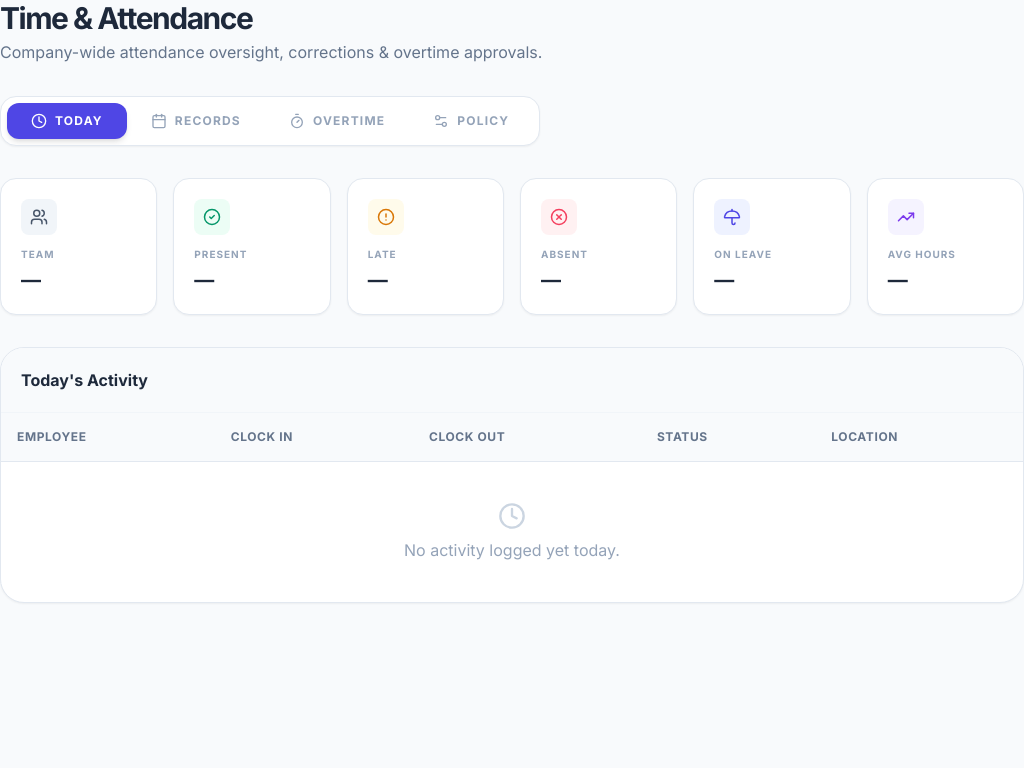
Scenario: AttendanceManagement (admin) › Records tab › disables Save on the create form until an employee id is entered
Click the button "Records".
click(196, 121)  # box [127,103,265,139]
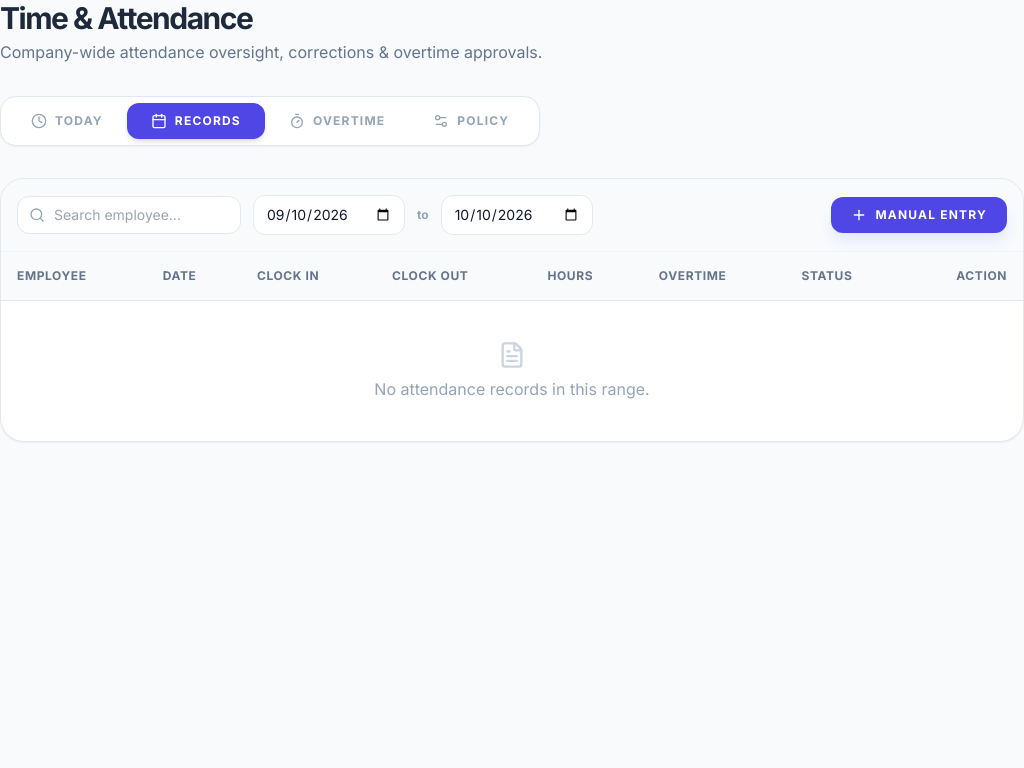
Click the button "Manual Entry".
click(919, 215)  # box [831,197,1007,233]
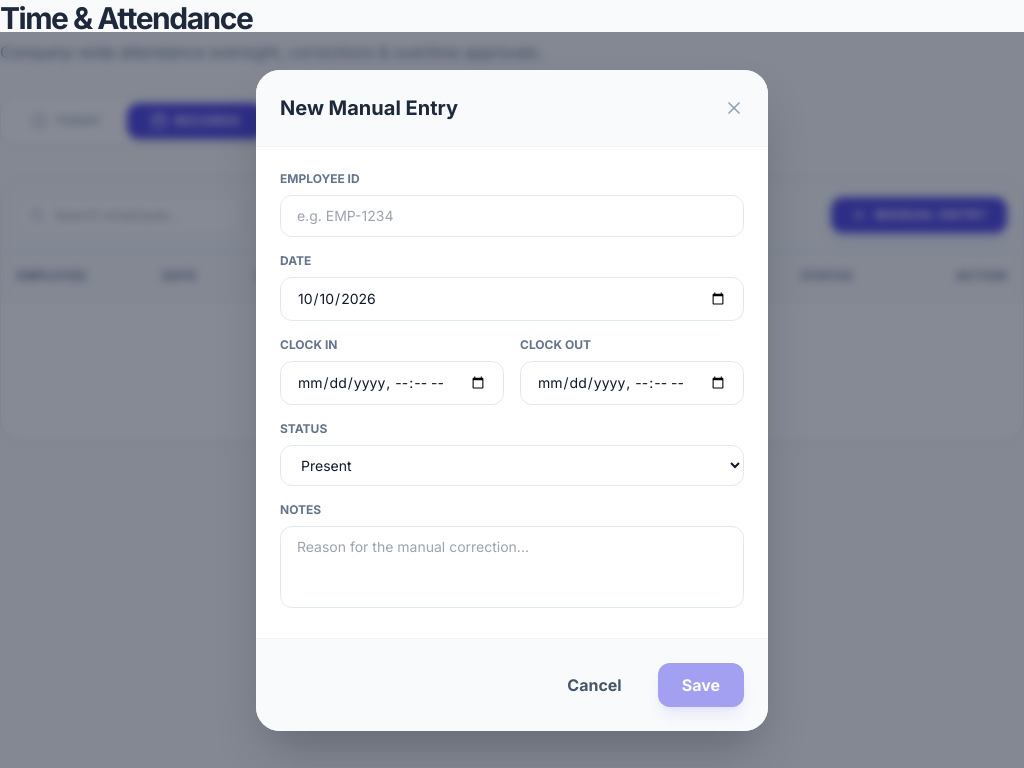
Now the button "Save" is disabled, box [658,662,744,706]
